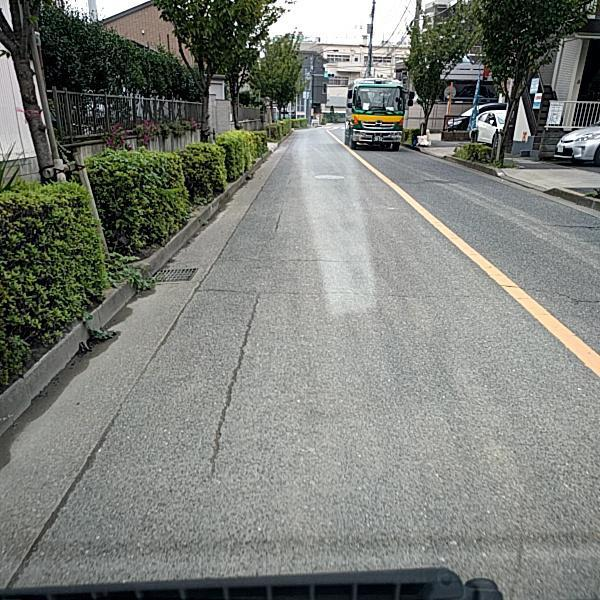D00: (204, 282, 264, 484)
D10: (198, 276, 467, 305), (497, 279, 599, 306), (275, 249, 369, 264), (521, 217, 599, 232)
